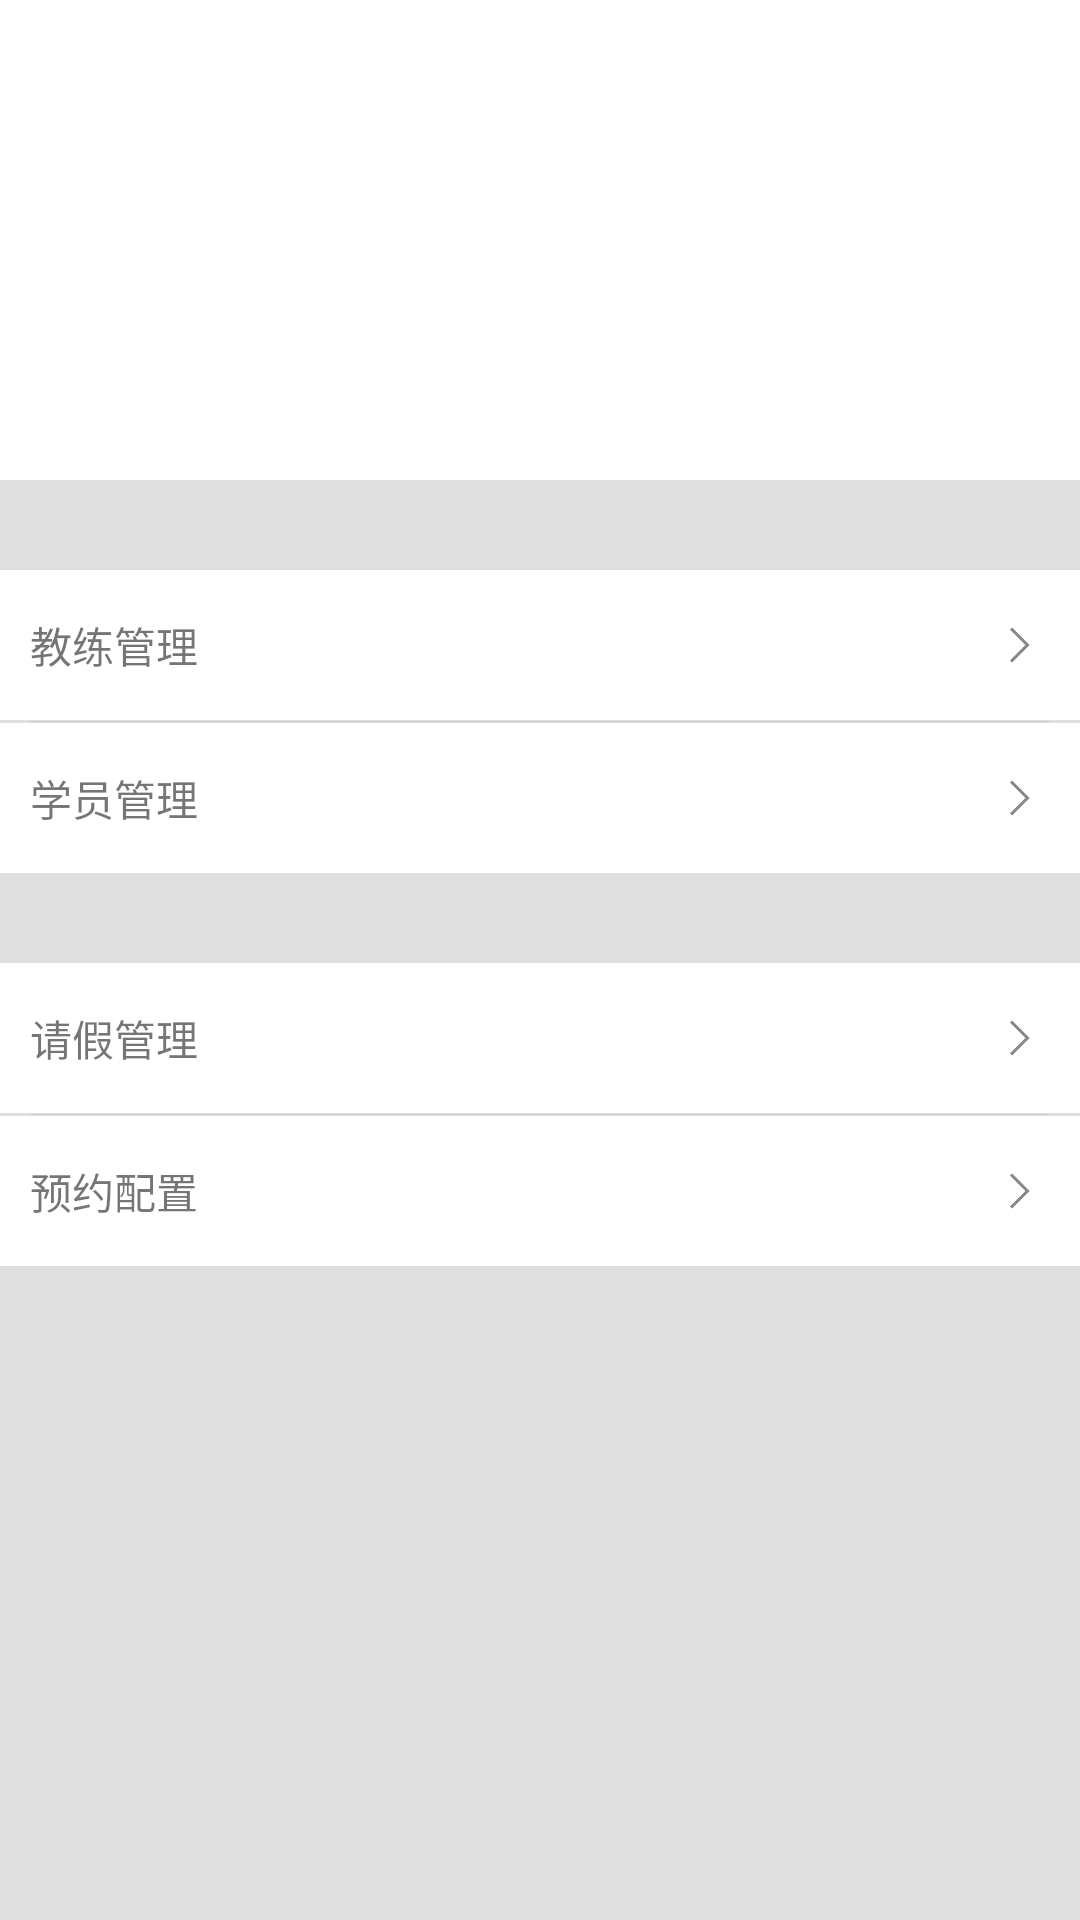

Icons on this 1080w x 1920h Android screen, each with the point to tap as [x,y]:
more: [1019,645], [1019,798], [1019,1038], [1019,1191]
